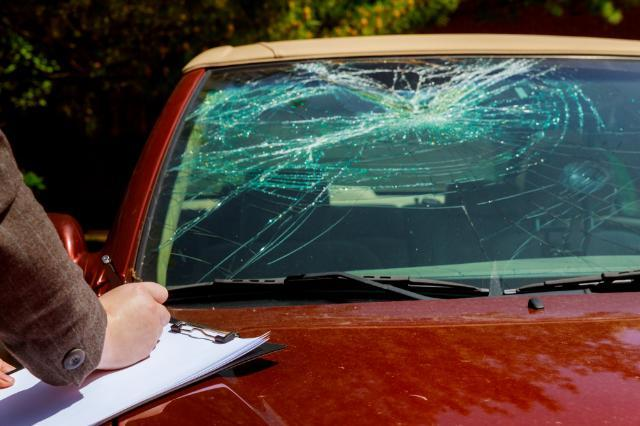glass shatter: (142, 54, 640, 291)
